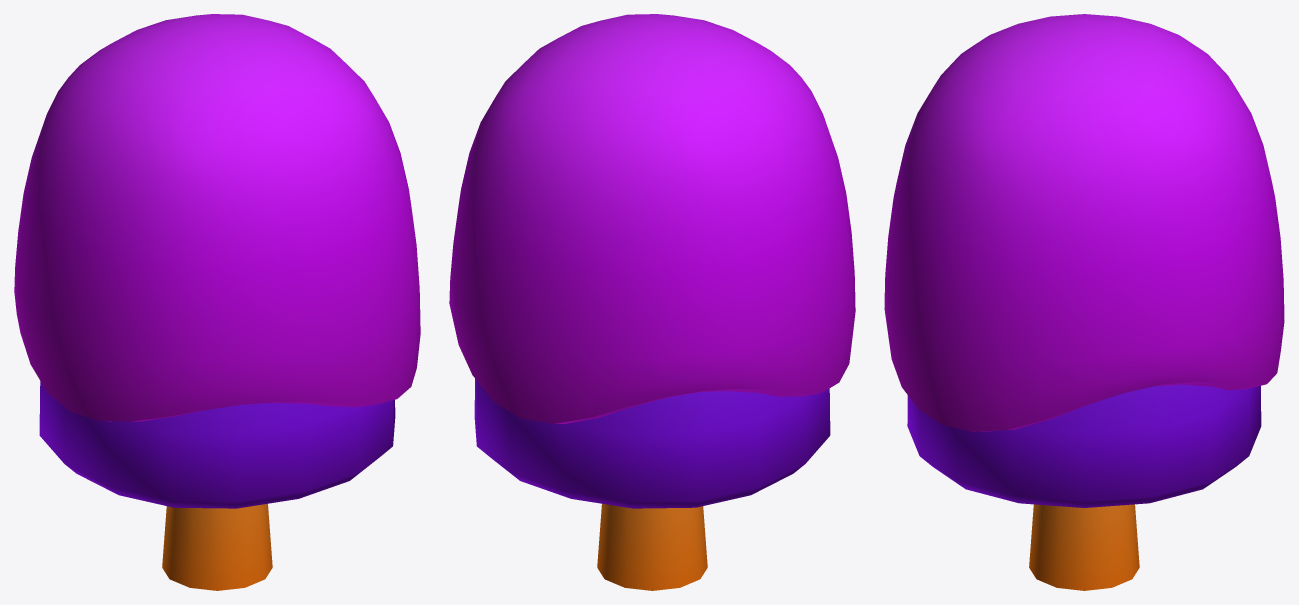
The model's file is Plant_Tree_02.fbx.
The picture shows the model from 3 angles, left to right: view 1: azimuth 30°, elevation 25°; view 2: azimuth 150°, elevation 25°; view 3: azimuth 270°, elevation 25°; orthographic projection.
Visible parts, largest first — view 1: Plant_Tree_02; view 2: Plant_Tree_02; view 3: Plant_Tree_02.
Boxes of the visible parts, x1=… form: Plant_Tree_02: x1=14, y1=14, x2=420, y2=590; Plant_Tree_02: x1=449, y1=14, x2=855, y2=590; Plant_Tree_02: x1=884, y1=14, x2=1284, y2=590.
Size of the model in its own units: 193 by 284 by 193.
